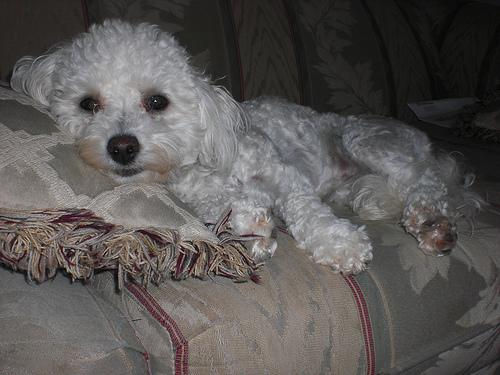dog: (9, 18, 236, 181)
